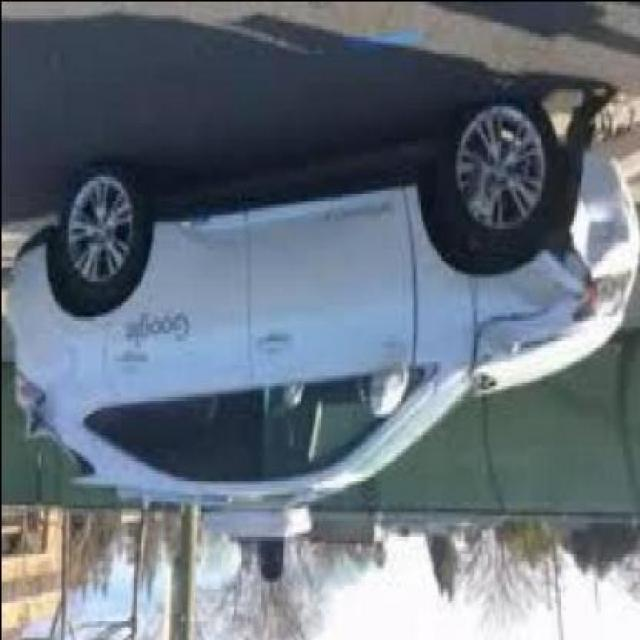damage: (469, 80, 637, 389)
